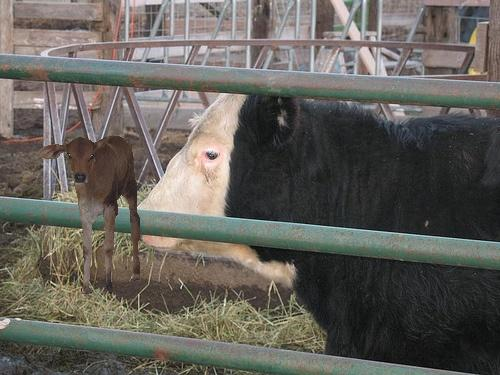tampered: (37, 137, 140, 294)
